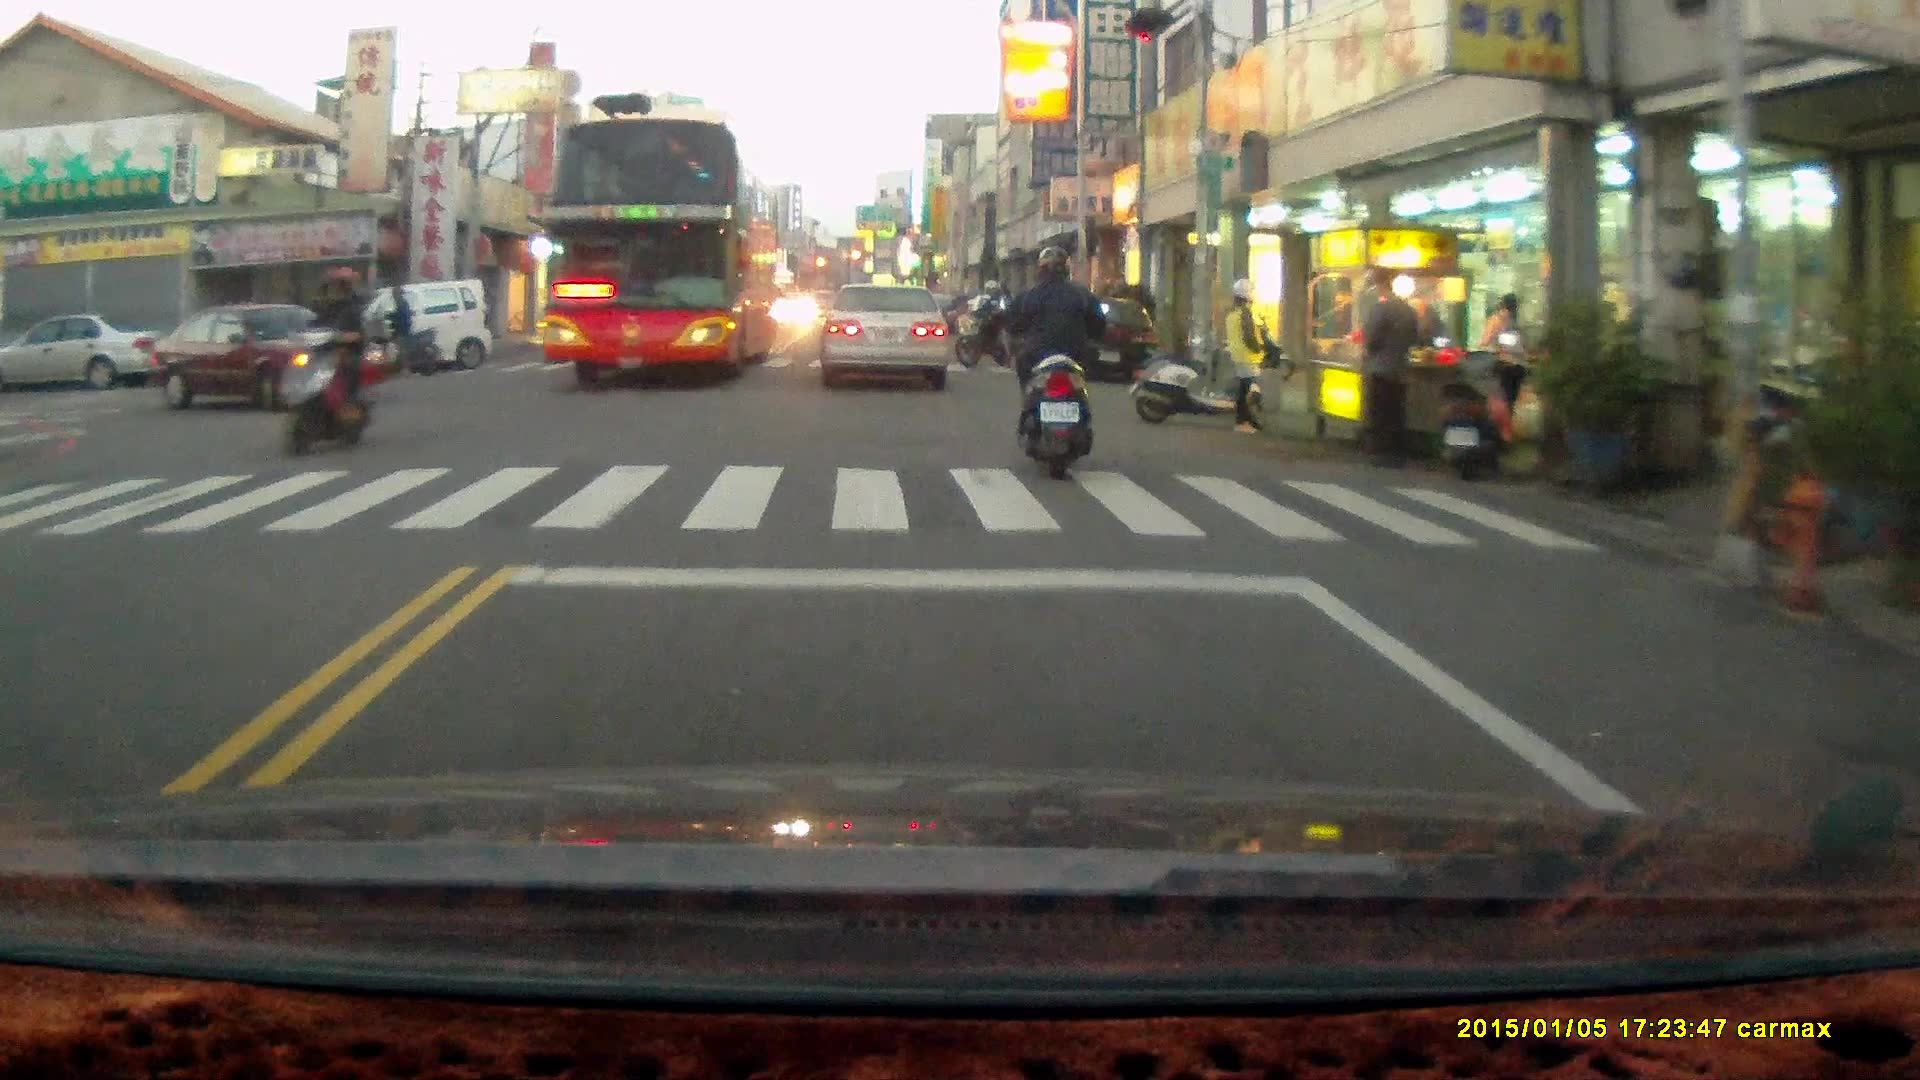pedestrian: (1359, 265, 1419, 465), (1480, 292, 1527, 450), (1224, 282, 1269, 441)
rider: (997, 241, 1110, 480), (269, 265, 375, 457), (365, 281, 440, 378), (951, 281, 1021, 371)
vehicle: (539, 115, 780, 390), (157, 304, 387, 411), (818, 281, 953, 391), (351, 275, 493, 372), (1, 311, 166, 388), (1047, 293, 1162, 386)
